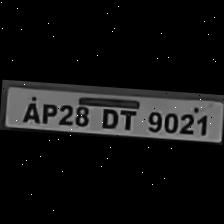0: (160, 109, 179, 133)
1: (194, 111, 211, 136)
2: (54, 101, 74, 126), (176, 110, 195, 134)
8: (70, 102, 91, 127)
9: (141, 108, 164, 132)
A: (18, 98, 42, 124)
D: (94, 104, 120, 129)
P: (38, 100, 57, 124)
T: (116, 106, 140, 130)
